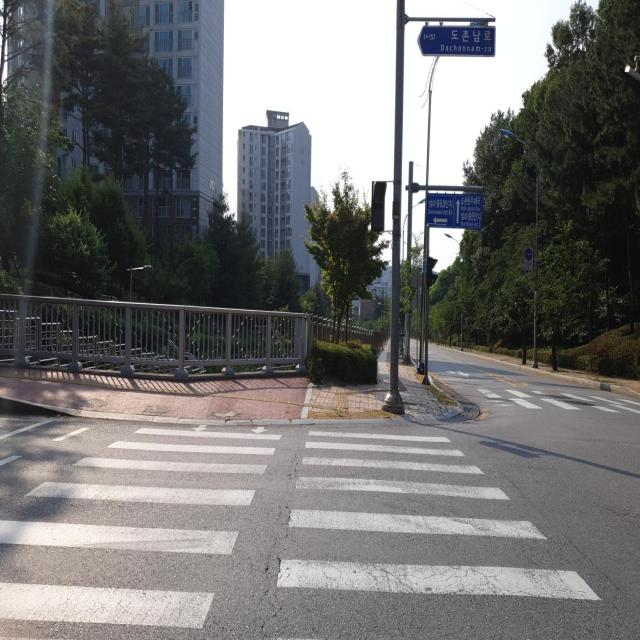횡단보도: (0, 421, 605, 640), (453, 388, 640, 418)
